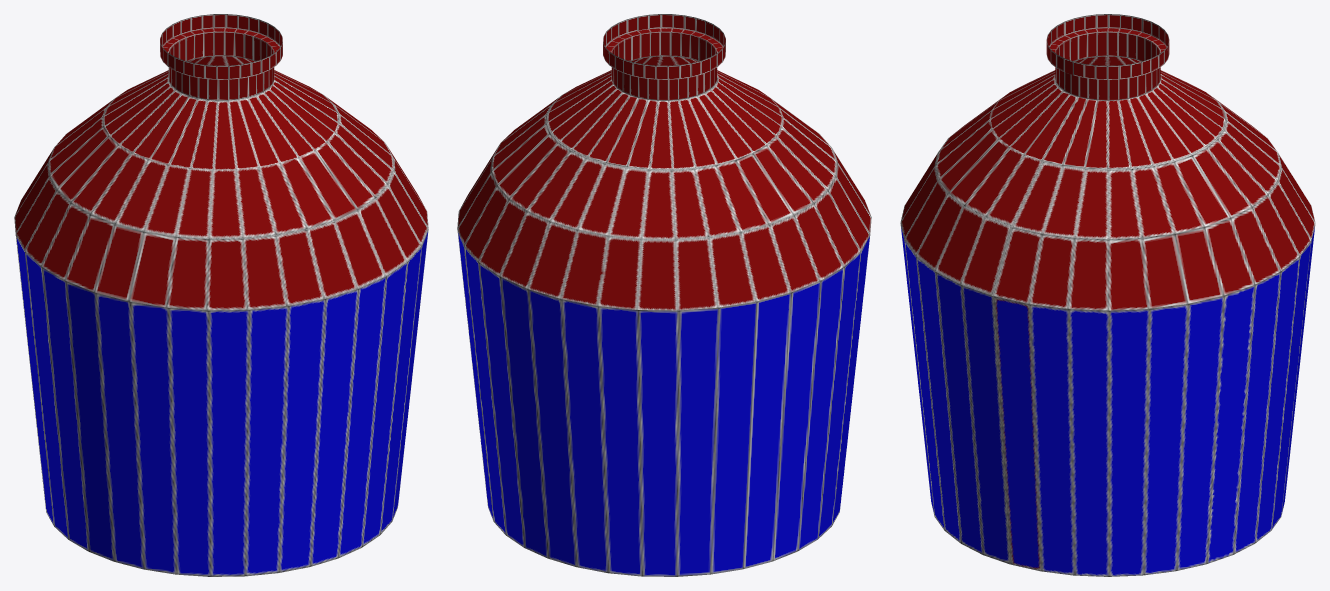
File: pitcher_two.obj
3 views of the same model, side by side, from view 1: azimuth 30°, elevation 25°; view 2: azimuth 150°, elevation 25°; view 3: azimuth 270°, elevation 25° (orthographic).
Visible parts, largest first — view 1: Circle; view 2: Circle; view 3: Circle.
Part boxes in pixels (x1=…): Circle: x1=14, y1=14, x2=428, y2=576; Circle: x1=457, y1=14, x2=871, y2=576; Circle: x1=900, y1=14, x2=1315, y2=576.
Bounding box in the file's own units: 1.54 × 1.89 × 1.54.
Materials: 1 (1 with a texture image).
